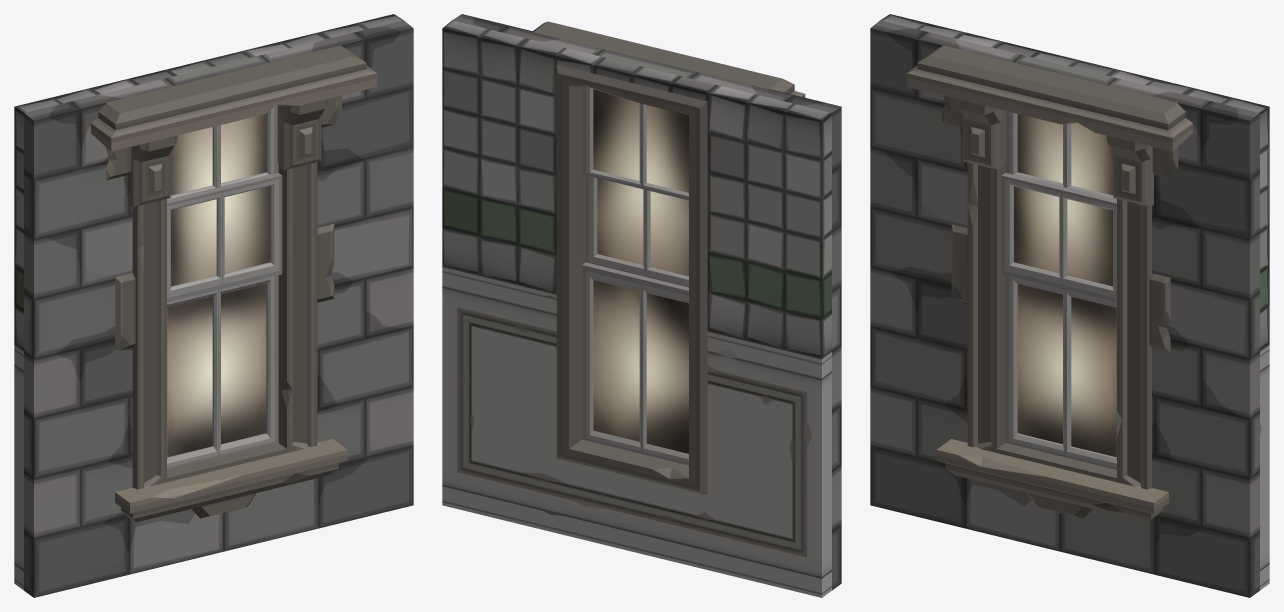
Rendered from SM_Bld_Wall_Window_Tall_01.fbx.
The picture shows the model from 3 angles, left to right: view 1: azimuth 30°, elevation 25°; view 2: azimuth 150°, elevation 25°; view 3: azimuth 330°, elevation 25°; orthographic projection.
Parts seen in each view (by area): view 1: SM_Bld_Wall_Window_Tall_01, SM_Bld_Wall_Window_Tall_01_Glass; view 2: SM_Bld_Wall_Window_Tall_01, SM_Bld_Wall_Window_Tall_01_Glass; view 3: SM_Bld_Wall_Window_Tall_01, SM_Bld_Wall_Window_Tall_01_Glass.
Part boxes in pixels (x1,y1,x2,y2): SM_Bld_Wall_Window_Tall_01: [14, 14, 413, 597]; SM_Bld_Wall_Window_Tall_01_Glass: [167, 114, 269, 457]; SM_Bld_Wall_Window_Tall_01: [442, 14, 841, 597]; SM_Bld_Wall_Window_Tall_01_Glass: [593, 89, 688, 453]; SM_Bld_Wall_Window_Tall_01: [870, 14, 1269, 597]; SM_Bld_Wall_Window_Tall_01_Glass: [1014, 114, 1116, 457].
Bounding box in the file's own units: 250 × 301 × 49.27.
